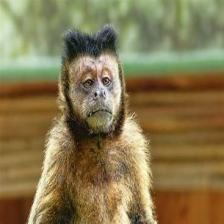monkey: (33, 26, 158, 224)
